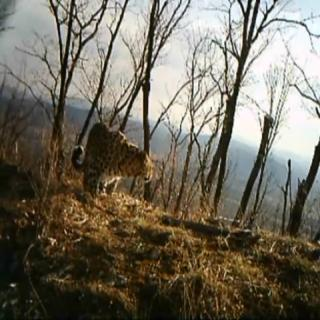Leopard: (69, 111, 173, 218)
